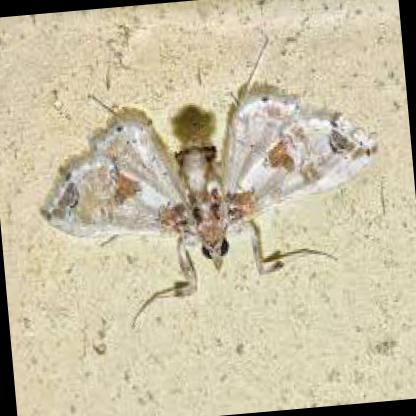leucinodes: (41, 94, 378, 291)
